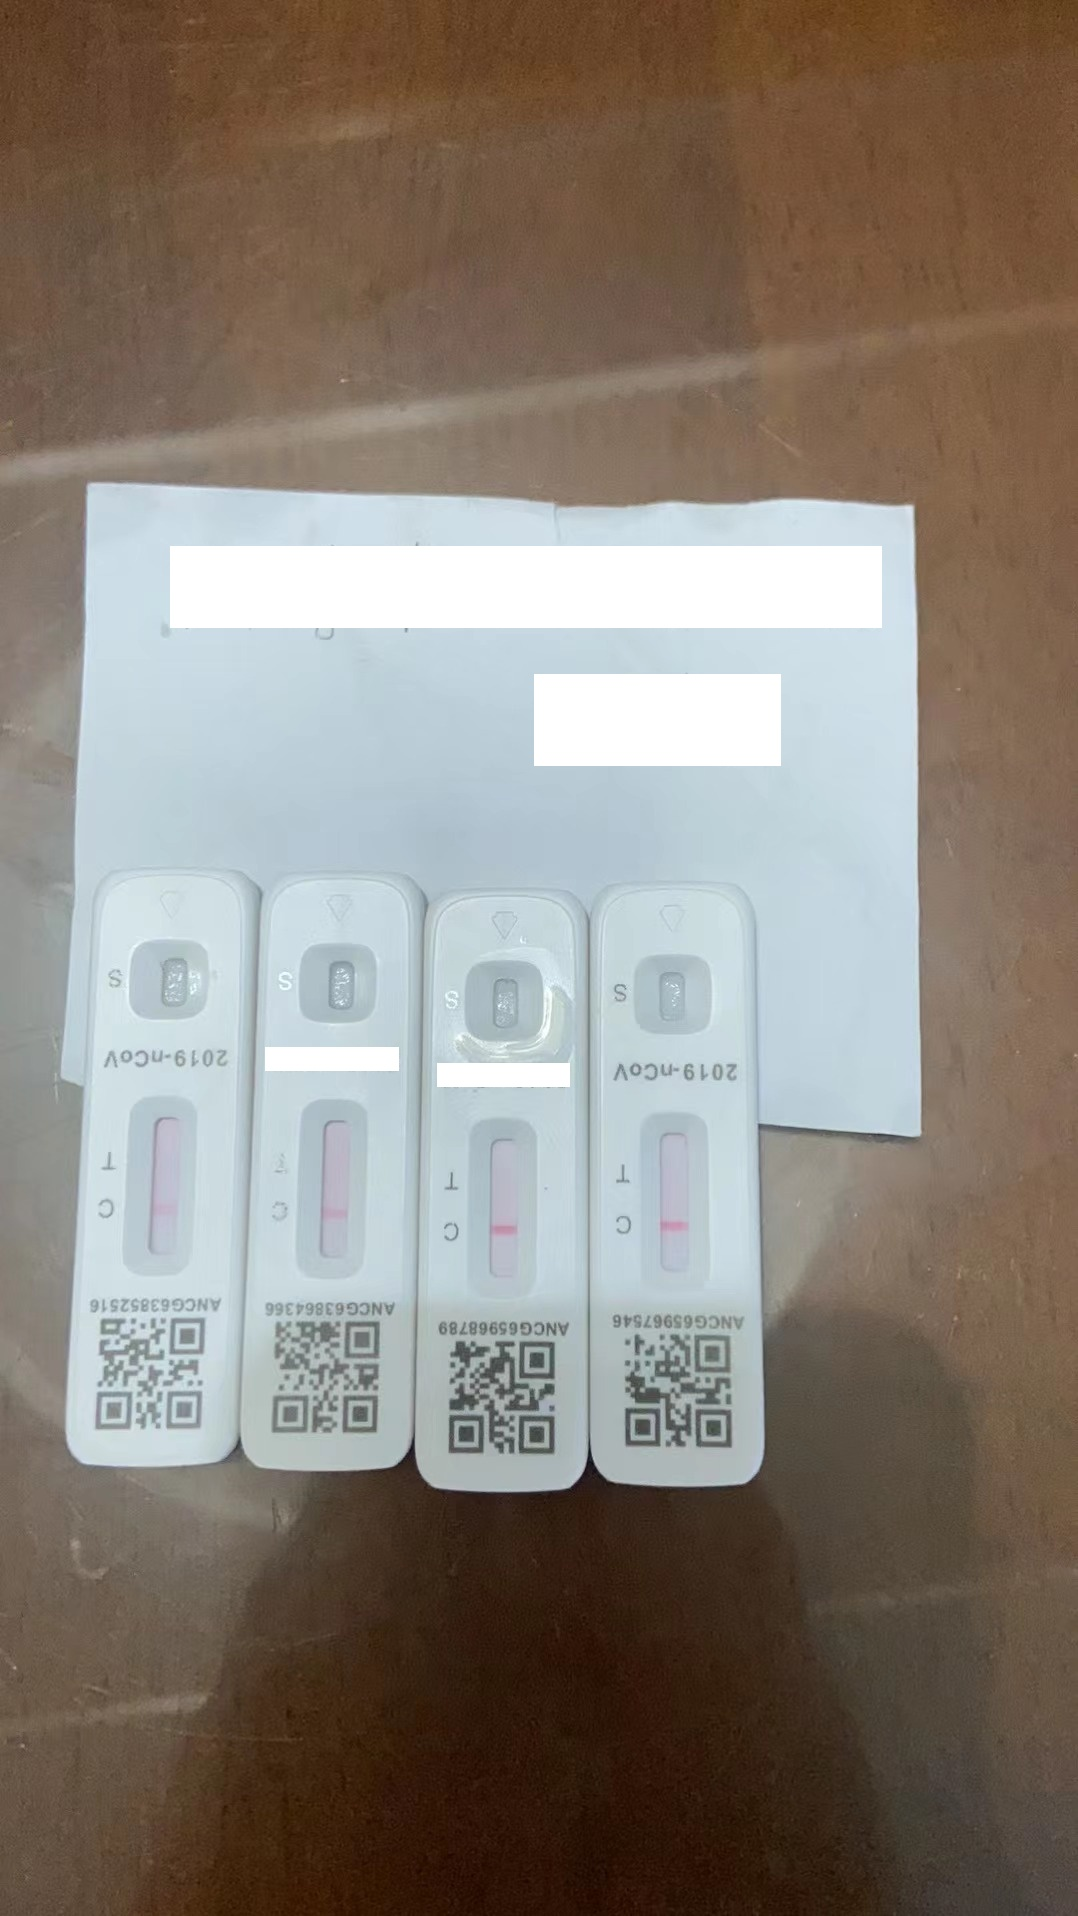negative: (469, 1120, 538, 1296), (297, 1103, 367, 1273), (129, 1097, 196, 1271), (645, 1116, 707, 1283)
